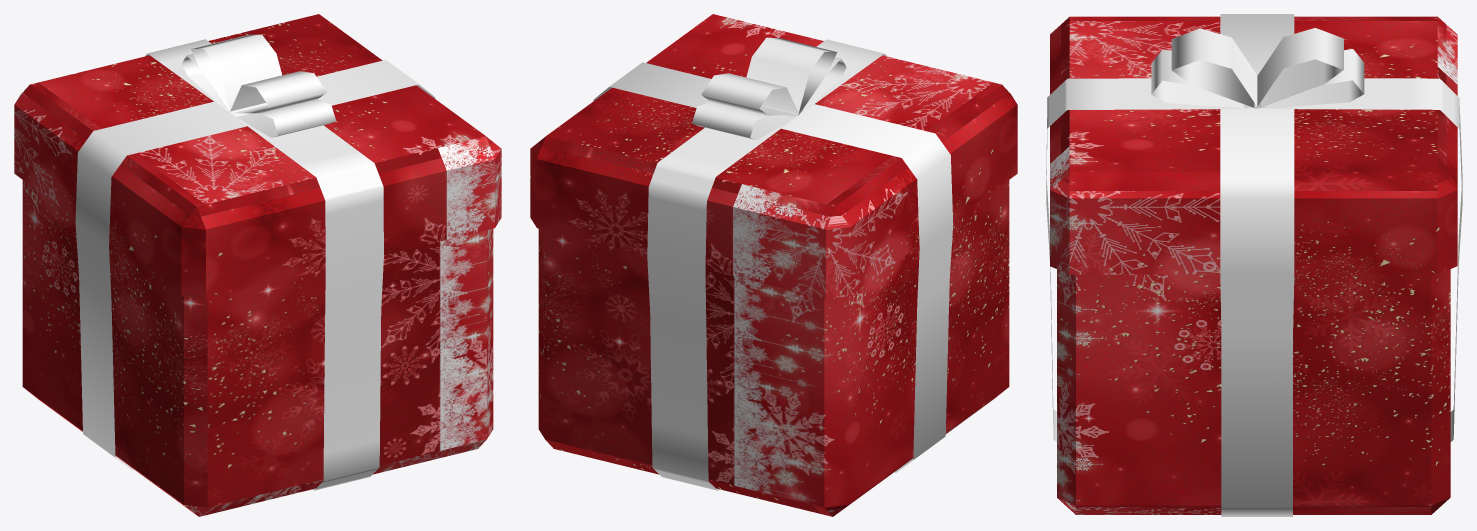
The model's file is christmasGift.fbx.
3 views of the same model, side by side, from view 1: azimuth 30°, elevation 25°; view 2: azimuth 150°, elevation 25°; view 3: azimuth 270°, elevation 25° (orthographic). The views are drawn at different scales.
Visible parts, largest first — view 1: Gift; view 2: Gift; view 3: Gift.
Boxes of the visible parts, x1,y1,x2,y2 form: Gift: [14, 14, 501, 516]; Gift: [530, 14, 1017, 516]; Gift: [1046, 14, 1462, 516].
Bounding box in the file's own units: 204 × 216 × 204.
